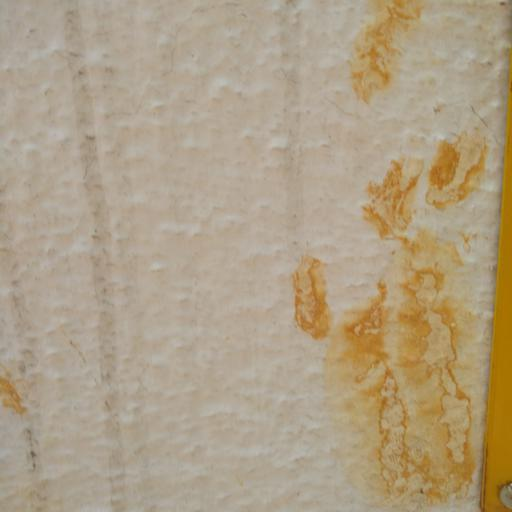stain: (268, 10, 512, 512), (76, 4, 172, 511), (0, 336, 42, 469)
